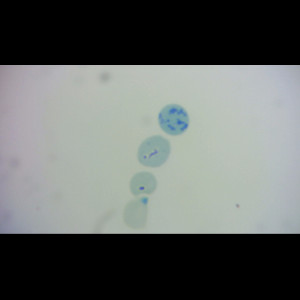aggregate reticulocyte: (157, 104, 191, 136)
erythrocyte: (136, 135, 172, 168), (123, 196, 150, 232), (128, 170, 158, 198)
